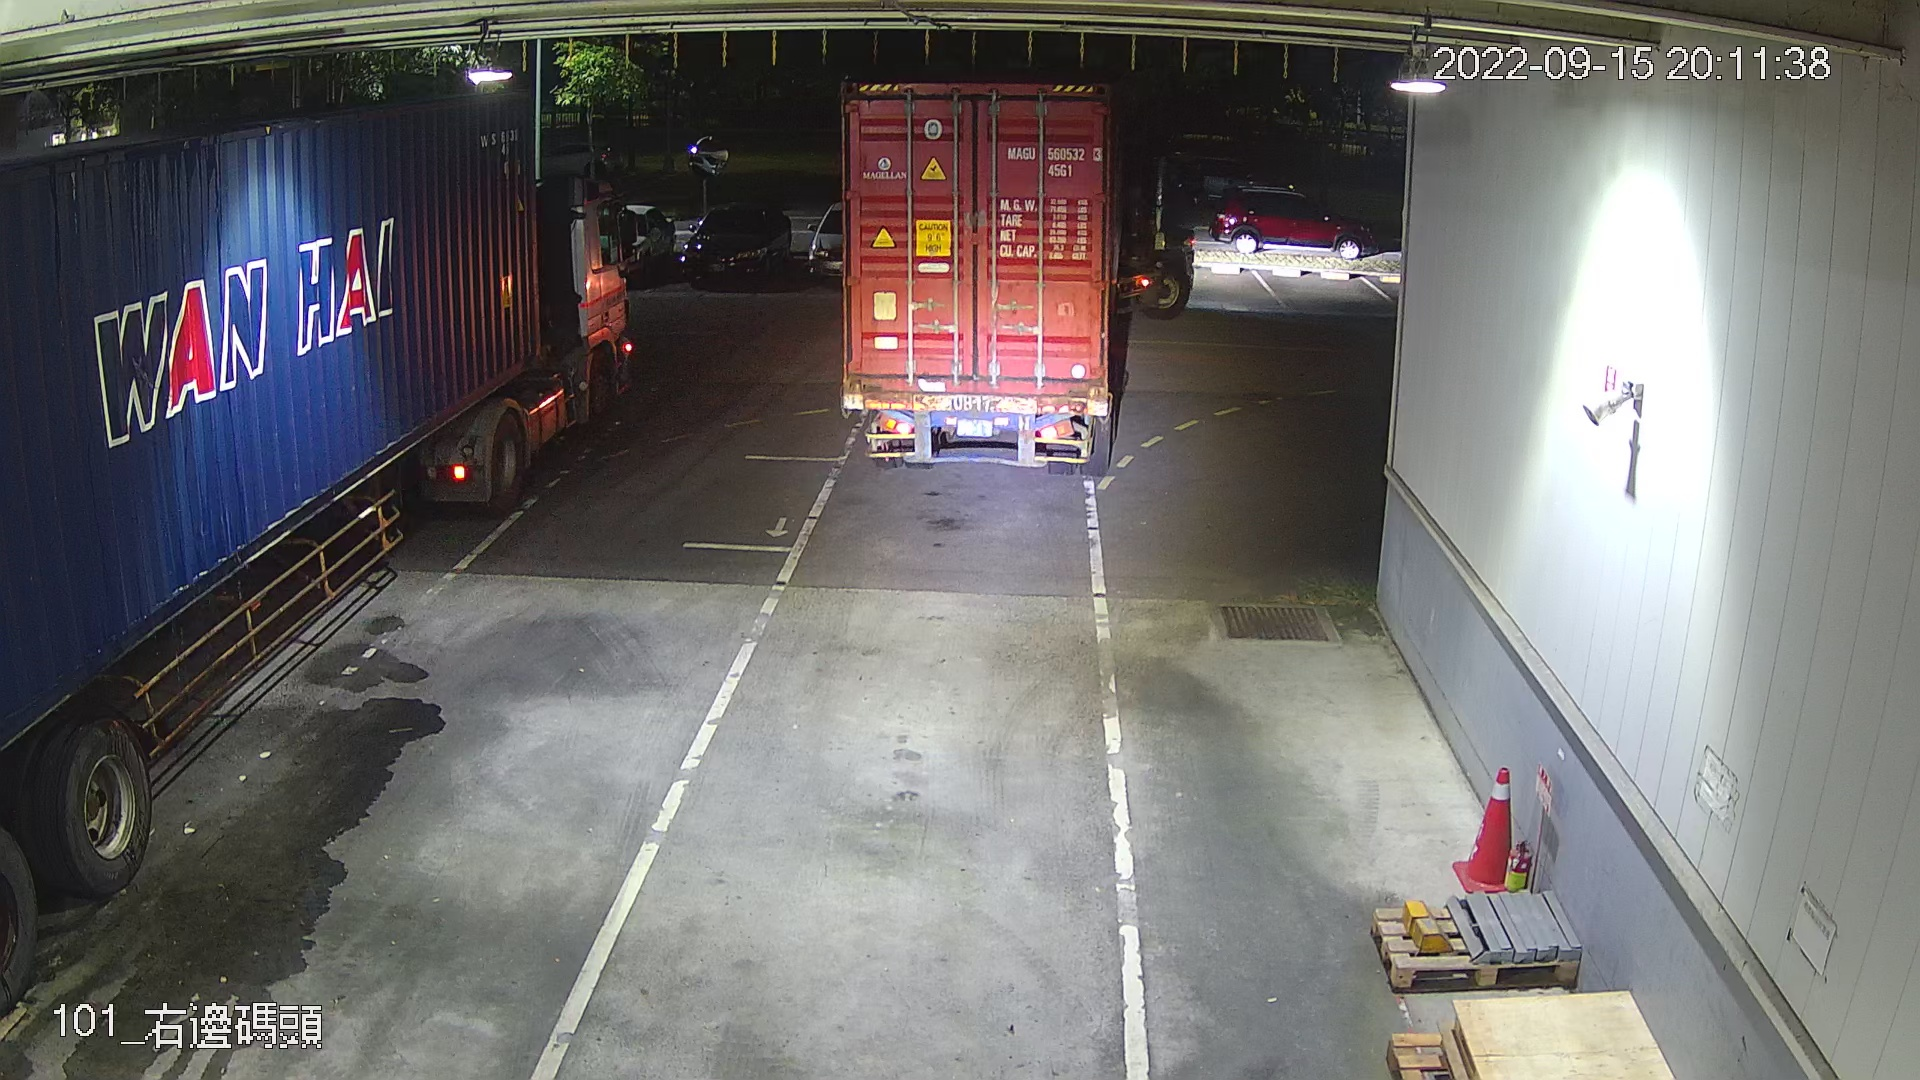container: (1004, 141, 1106, 182)
